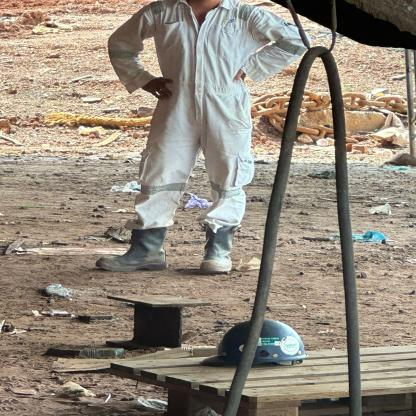bota: (91, 226, 176, 276), (195, 224, 243, 274)
